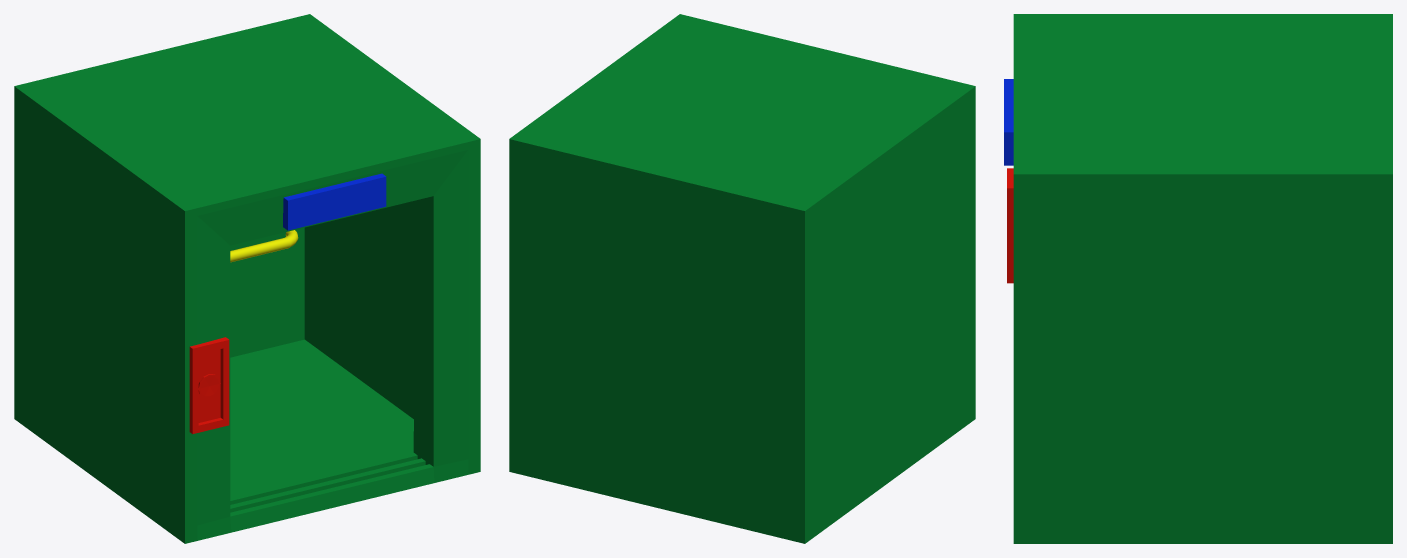
The model's file is Elevator.fbx.
3 views of the same model, side by side, from view 1: azimuth 30°, elevation 25°; view 2: azimuth 150°, elevation 25°; view 3: azimuth 270°, elevation 25° (orthographic). The views are drawn at different scales.
Visible parts, largest first — view 1: Ascensor; view 2: Ascensor; view 3: Ascensor.
Part boxes in pixels (x1,y1,x2,y2): Ascensor: (14, 14, 480, 543); Ascensor: (509, 14, 975, 543); Ascensor: (1004, 14, 1392, 543).
Bounding box in the file's own units: 600 × 645 × 615.
